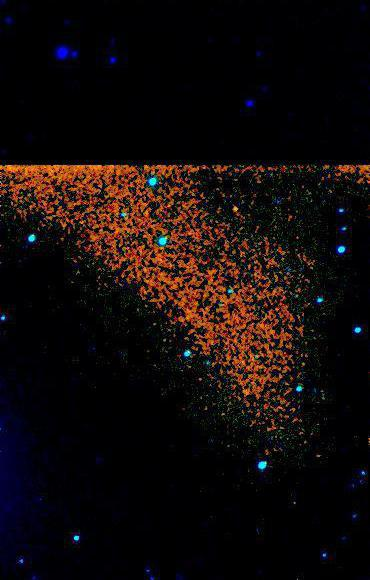star: (224, 193, 254, 223)
